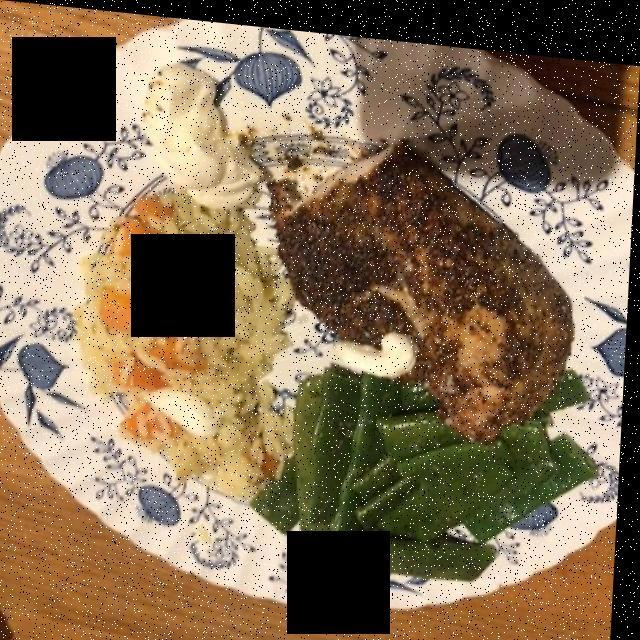carrot: (110, 197, 191, 442)
chicken-breast: (282, 151, 571, 424)
mayonnaise: (125, 50, 275, 218)
rice: (90, 188, 292, 486)
